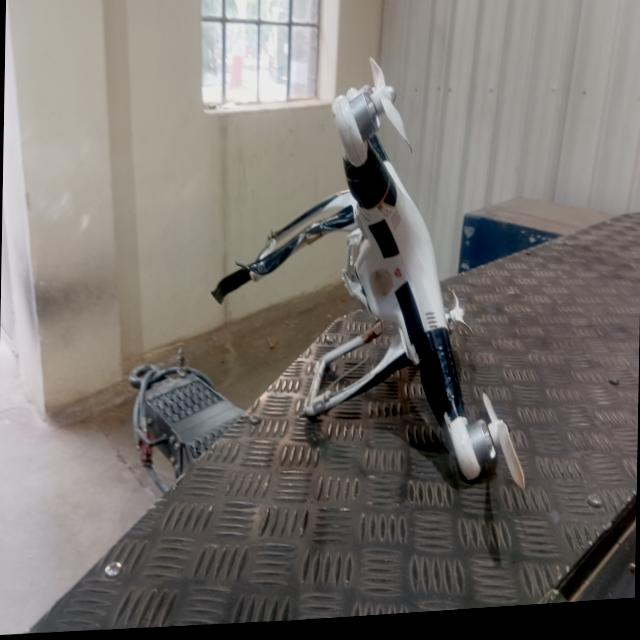drone: (232, 83, 520, 501)
